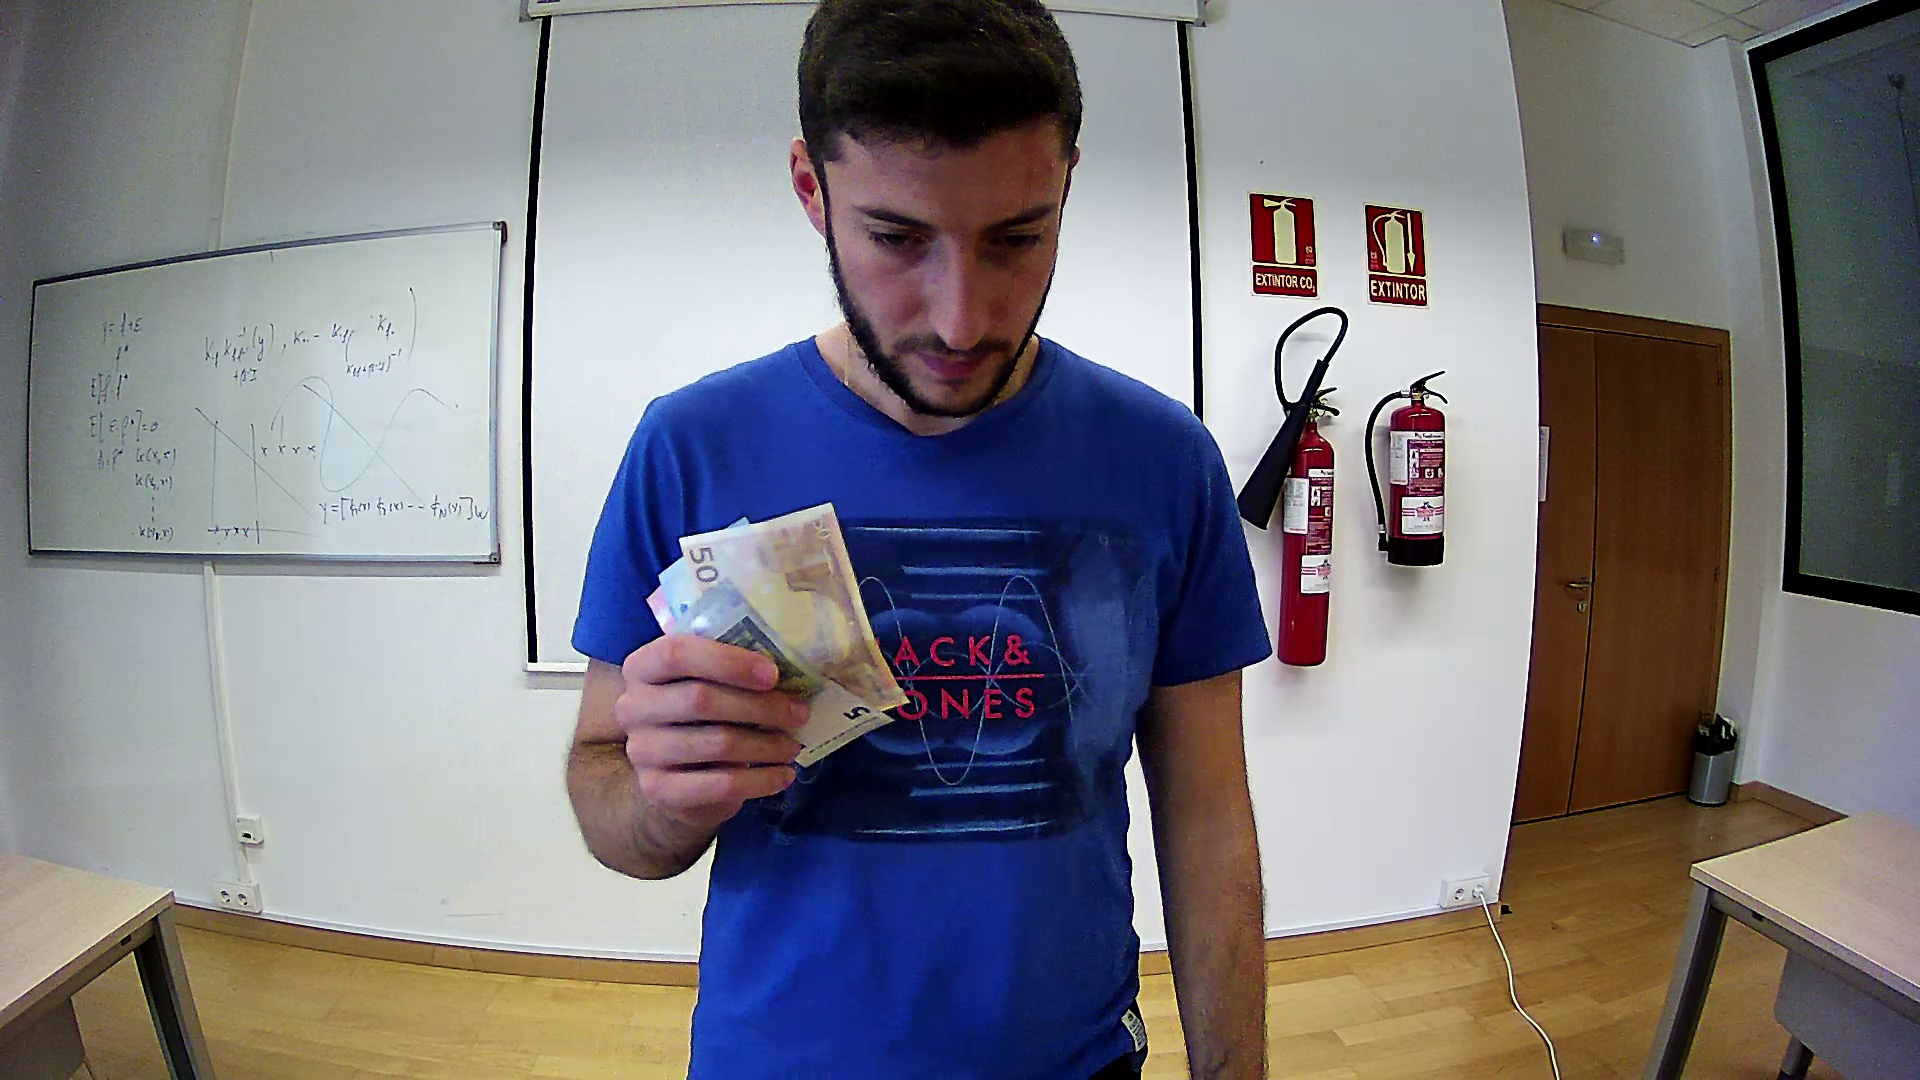billete: (645, 500, 913, 769), (666, 578, 894, 767)
